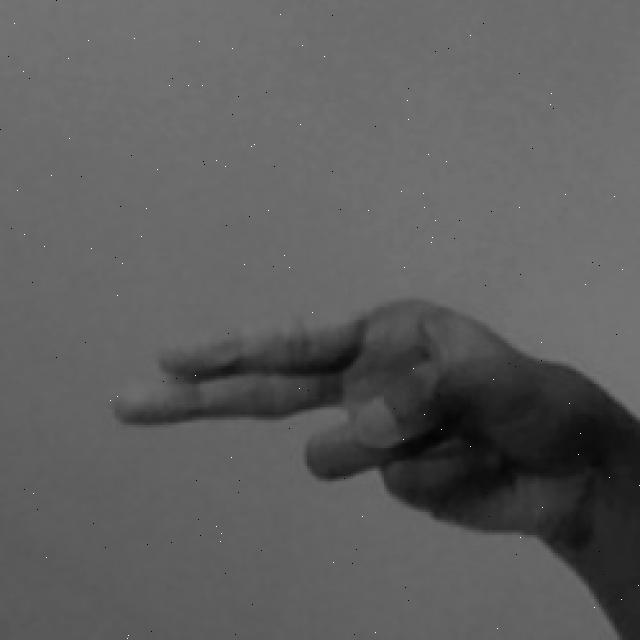H: (105, 294, 640, 640), (112, 289, 640, 639)
